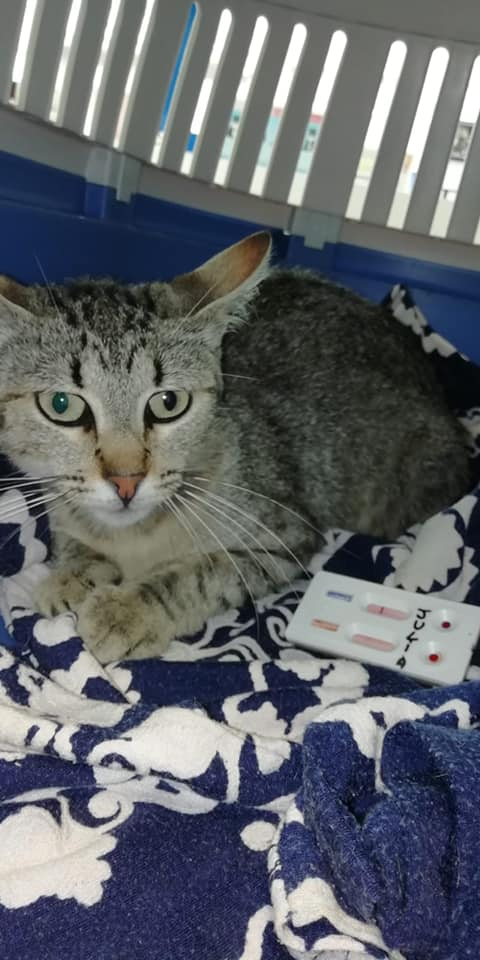cat: (8, 215, 474, 665)
